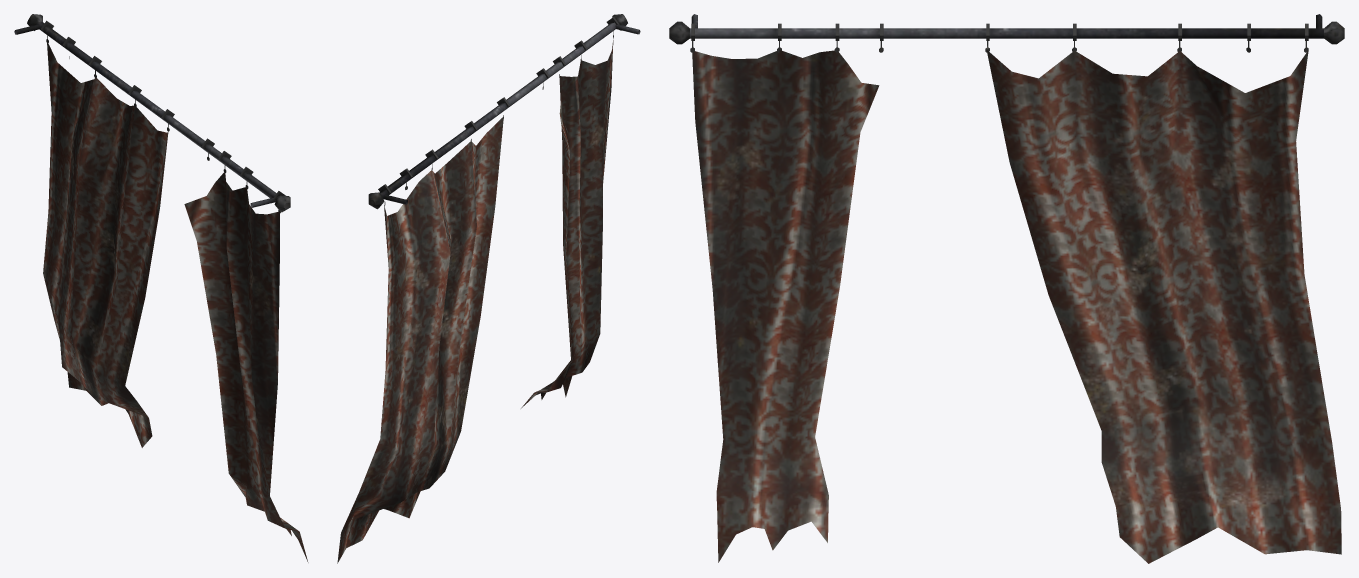
The model's file is Double_ExpCurtainSet_T05.FBX.
3 renders of one model, left to right at view 1: azimuth 30°, elevation 25°; view 2: azimuth 150°, elevation 25°; view 3: azimuth 270°, elevation 25°, orthographic. The views are drawn at different scales.
Visible parts, largest first — view 1: Double_ExpCurtainSet_T05; view 2: Double_ExpCurtainSet_T05; view 3: Double_ExpCurtainSet_T05.
Boxes of the visible parts, x1,y1,x2,y2 form: Double_ExpCurtainSet_T05: (14, 14, 308, 562); Double_ExpCurtainSet_T05: (337, 14, 640, 563); Double_ExpCurtainSet_T05: (669, 14, 1344, 563).
Size of the model in its own units: 36.4 by 193 by 228.
